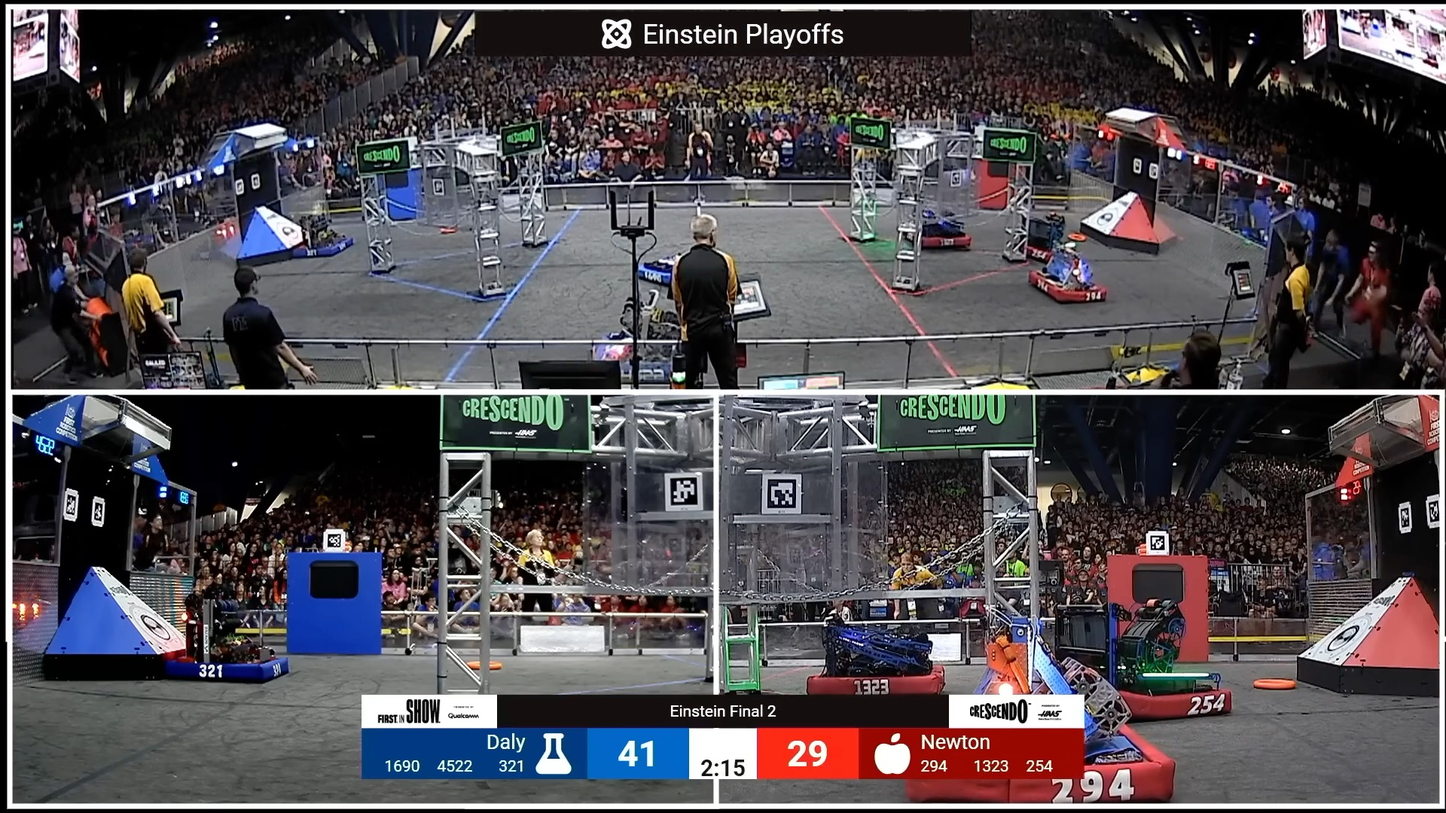bumpers: (889, 717, 1177, 799), (1098, 672, 1237, 729), (157, 651, 299, 689), (799, 667, 948, 697), (1026, 265, 1115, 309), (896, 220, 974, 253), (636, 258, 714, 290), (291, 235, 358, 259), (1011, 236, 1076, 260)
